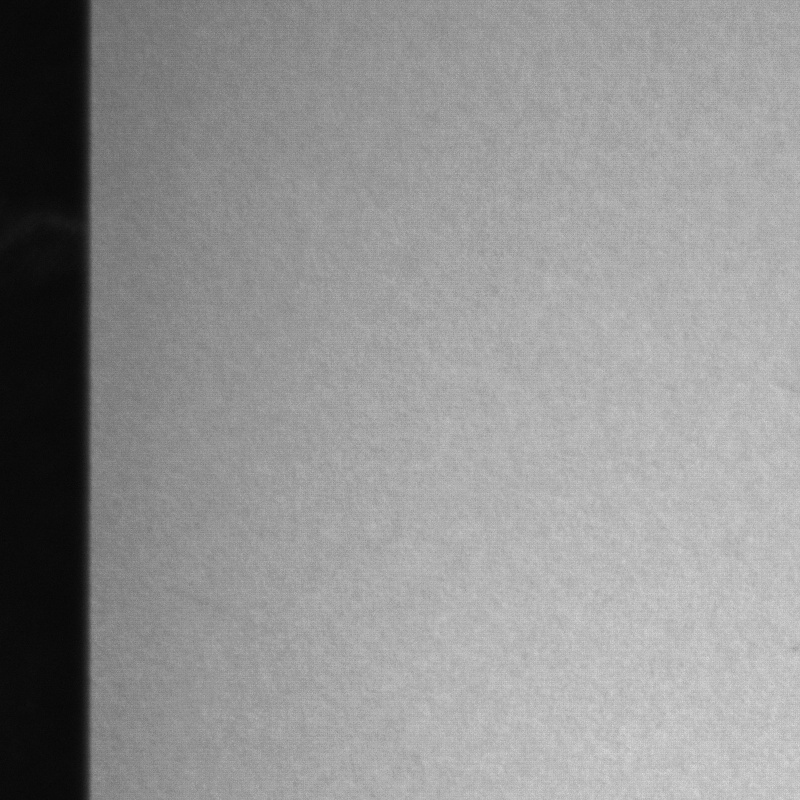defect: (785, 638, 800, 656)
